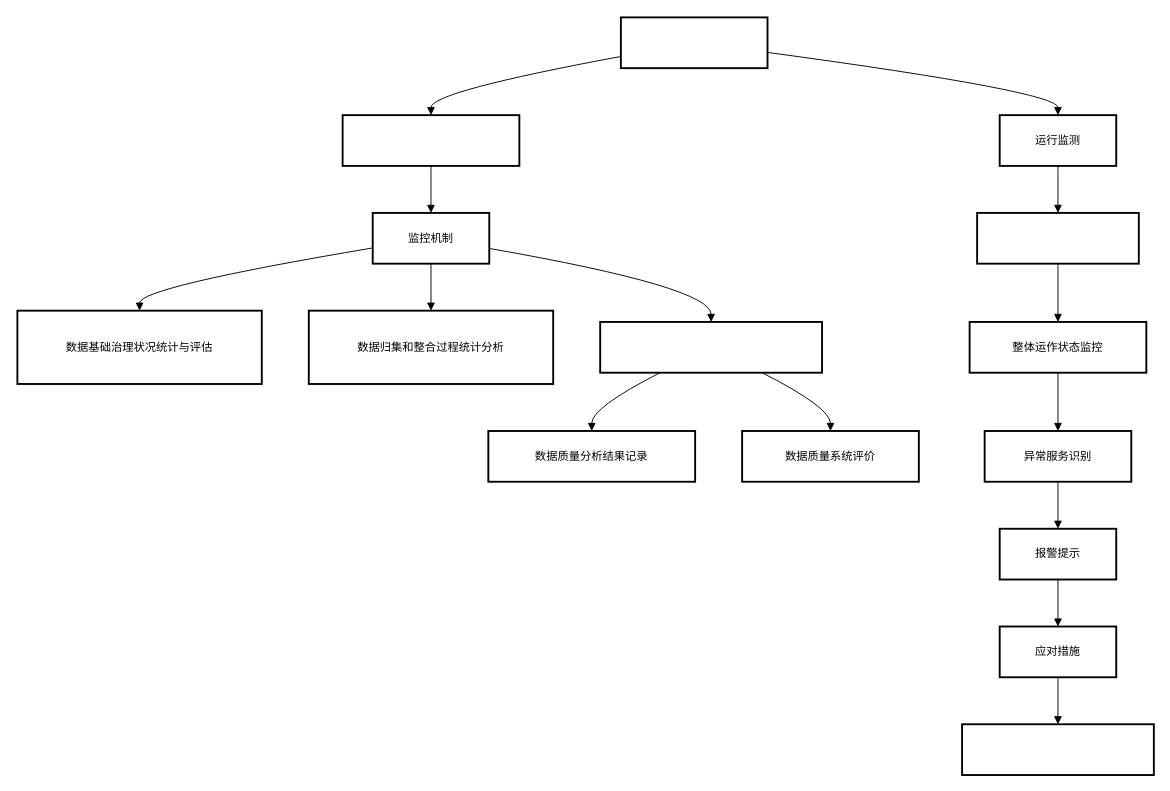
The diagram is 1170 pixels wide and 791 high, and some of its shapes have lost their labels. Here are the shapes that lost their labels. From the top down, the box of each, then its label:
(619, 16, 768, 69): 数据资源服务
(341, 114, 520, 166): 整体运行情况监控
(976, 212, 1139, 264): 实时追踪与分析
(599, 321, 822, 373): 数据质量评价体系与模型
(961, 723, 1154, 776): 提高运行效率与品质
